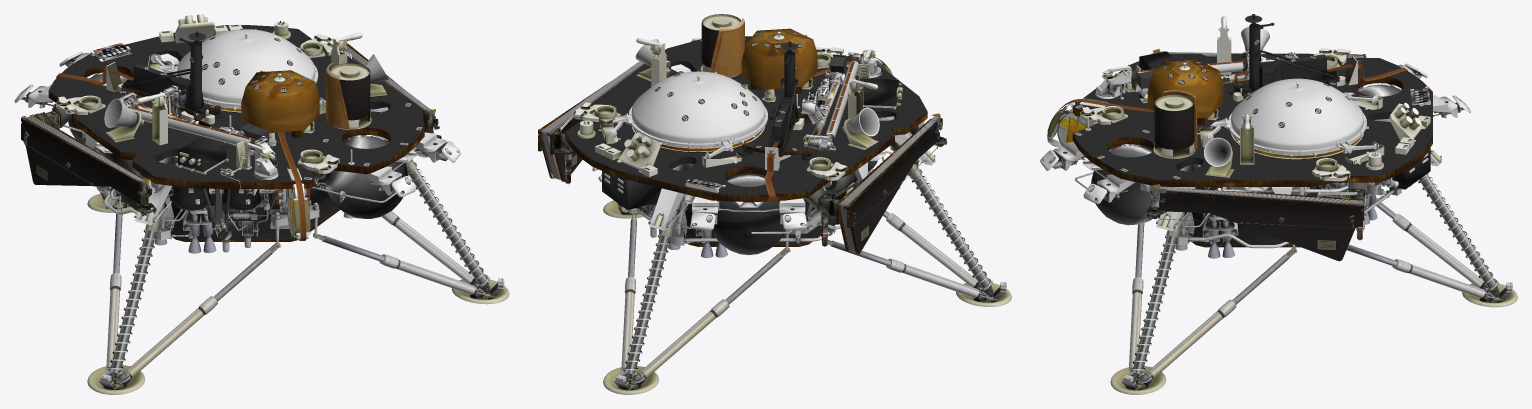
The model's file is in-sight-cruise-lander-3.glb.
3 renders of one model, left to right at view 1: azimuth 30°, elevation 25°; view 2: azimuth 150°, elevation 25°; view 3: azimuth 270°, elevation 25°, orthographic. The views are drawn at different scales.
Parts seen in each view (by area): view 1: Lander Deployed Simplified coarse.1043, leg_l, Cylinder.000, leg_r, Lander Deployed Simplified coarse.032, SEIS, HP3_v3d_baked, UHF_antenna, RISE_antennas, Cube.287, TWINS, cable_01 (+3 smaller); view 2: Lander Deployed Simplified coarse.1043, Cylinder.000, leg_b, leg_l, SEIS, Lander Deployed Simplified coarse.032, HP3_v3d_baked, UHF_antenna, RISE_antennas, TWINS, Cube.287, Cube.286 (+3 smaller); view 3: Lander Deployed Simplified coarse.1043, Cylinder.000, Cube.051, leg_r, leg_b, HP3_v3d_baked, SEIS, UHF_antenna, RISE_antennas, TWINS, Cube.287, Cube.042.
Part boxes in pixels (x1=…): Lander Deployed Simplified coarse.1043: x1=14, y1=14, x2=460, y2=253; leg_l: x1=87, y1=194, x2=280, y2=394; Cylinder.000: x1=158, y1=29, x2=318, y2=110; leg_r: x1=313, y1=139, x2=509, y2=304; Lander Deployed Simplified coarse.032: x1=21, y1=116, x2=156, y2=216; SEIS: x1=241, y1=70, x2=319, y2=138; HP3_v3d_baked: x1=113, y1=31, x2=225, y2=121; UHF_antenna: x1=326, y1=62, x2=371, y2=129; RISE_antennas: x1=104, y1=54, x2=389, y2=142; Cube.287: x1=118, y1=92, x2=275, y2=165; TWINS: x1=136, y1=32, x2=362, y2=145; cable_01: x1=278, y1=132, x2=306, y2=240; Lander Deployed Simplified coarse.1043: x1=555, y1=34, x2=935, y2=258; Cylinder.000: x1=612, y1=71, x2=767, y2=151; leg_b: x1=603, y1=201, x2=789, y2=394; leg_l: x1=827, y1=141, x2=1011, y2=306; SEIS: x1=741, y1=28, x2=817, y2=94; Lander Deployed Simplified coarse.032: x1=843, y1=121, x2=947, y2=254; HP3_v3d_baked: x1=737, y1=41, x2=816, y2=160; UHF_antenna: x1=700, y1=14, x2=744, y2=77; RISE_antennas: x1=635, y1=39, x2=879, y2=149; TWINS: x1=636, y1=38, x2=878, y2=118; Cube.287: x1=803, y1=51, x2=862, y2=150; Cube.286: x1=803, y1=70, x2=844, y2=150; Lander Deployed Simplified coarse.1043: x1=1040, y1=48, x2=1470, y2=258; Cylinder.000: x1=1210, y1=78, x2=1368, y2=156; Cube.051: x1=1146, y1=191, x2=1364, y2=261; leg_r: x1=1110, y1=212, x2=1296, y2=394; leg_b: x1=1346, y1=173, x2=1517, y2=307; HP3_v3d_baked: x1=1228, y1=14, x2=1339, y2=103; SEIS: x1=1147, y1=59, x2=1223, y2=124; UHF_antenna: x1=1153, y1=90, x2=1197, y2=158; RISE_antennas: x1=1204, y1=27, x2=1269, y2=177; TWINS: x1=1217, y1=16, x2=1254, y2=164; Cube.287: x1=1107, y1=52, x2=1298, y2=94; Cube.042: x1=1155, y1=188, x2=1361, y2=204.
Bounding box in the file's own units: 2.47 × 1.58 × 2.56.
Materials: 11 (10 with a texture image).
